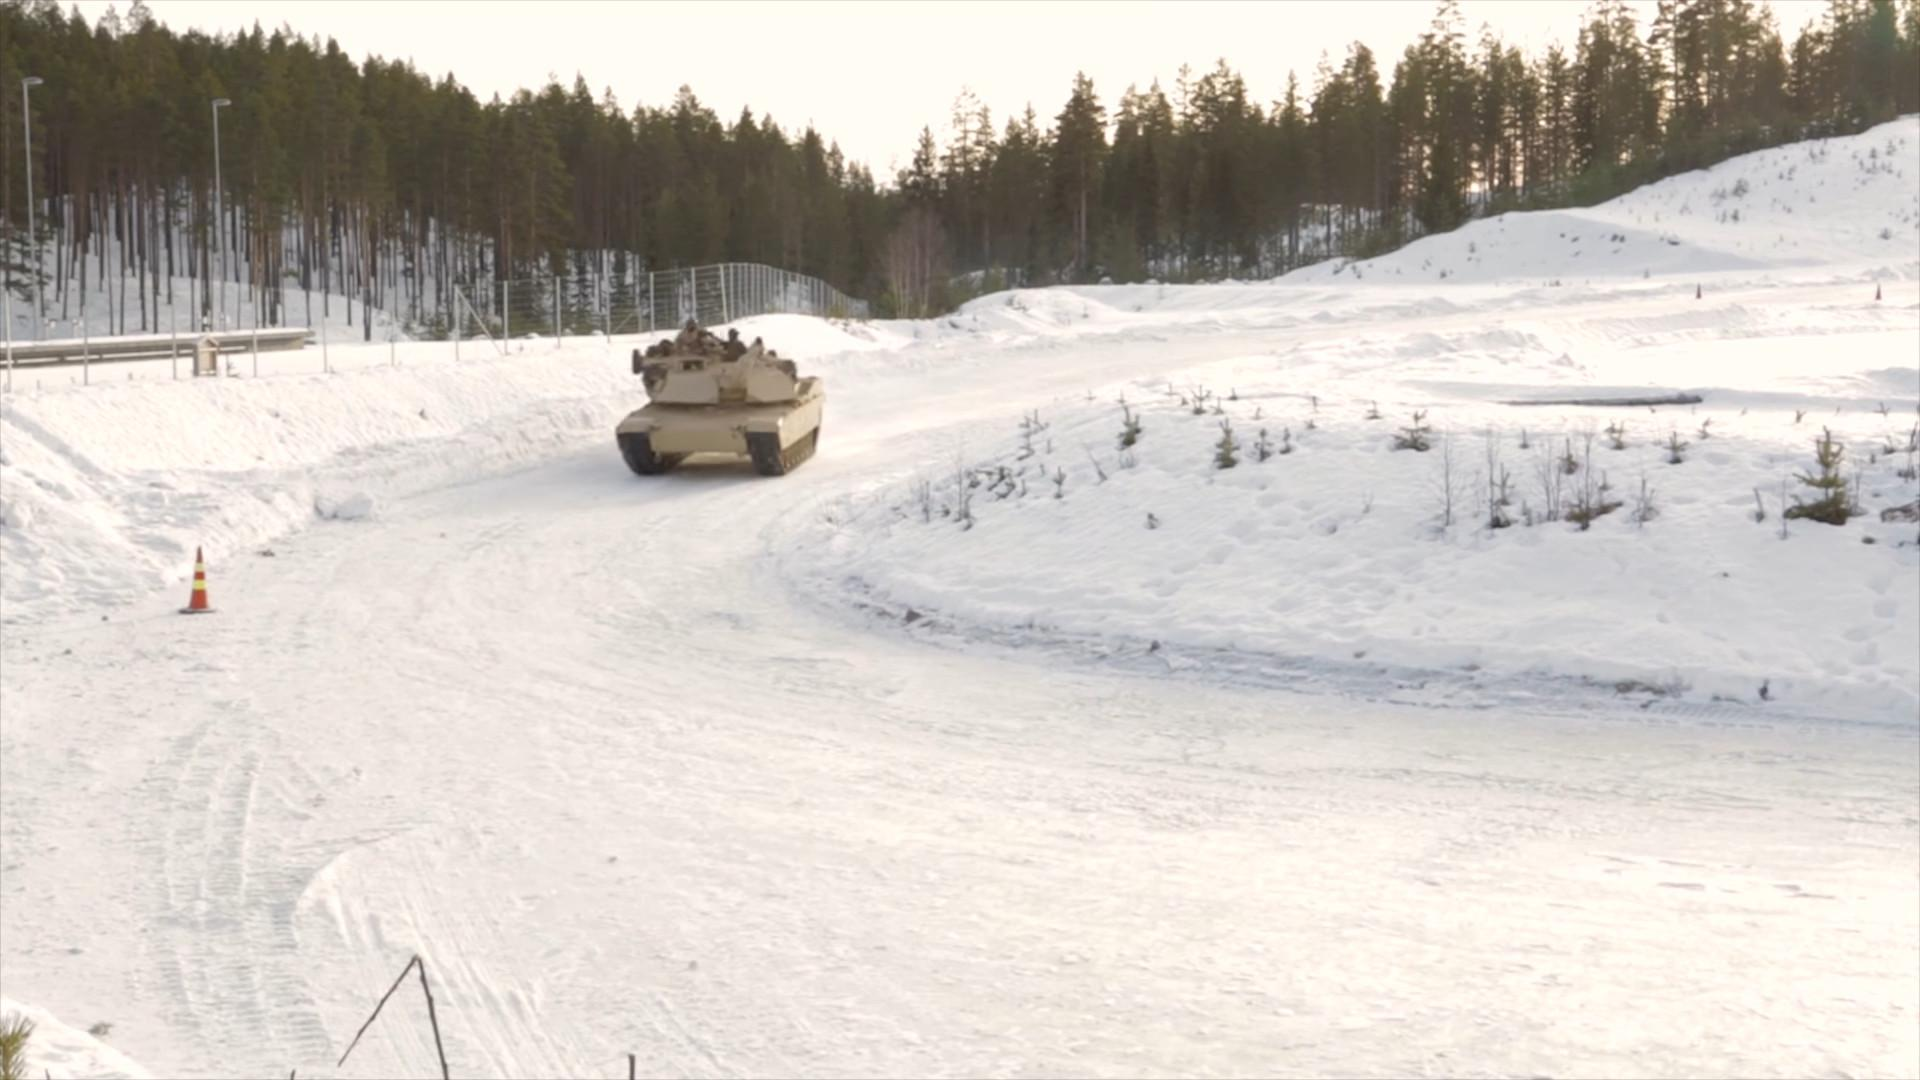tank: (615, 332, 827, 479)
